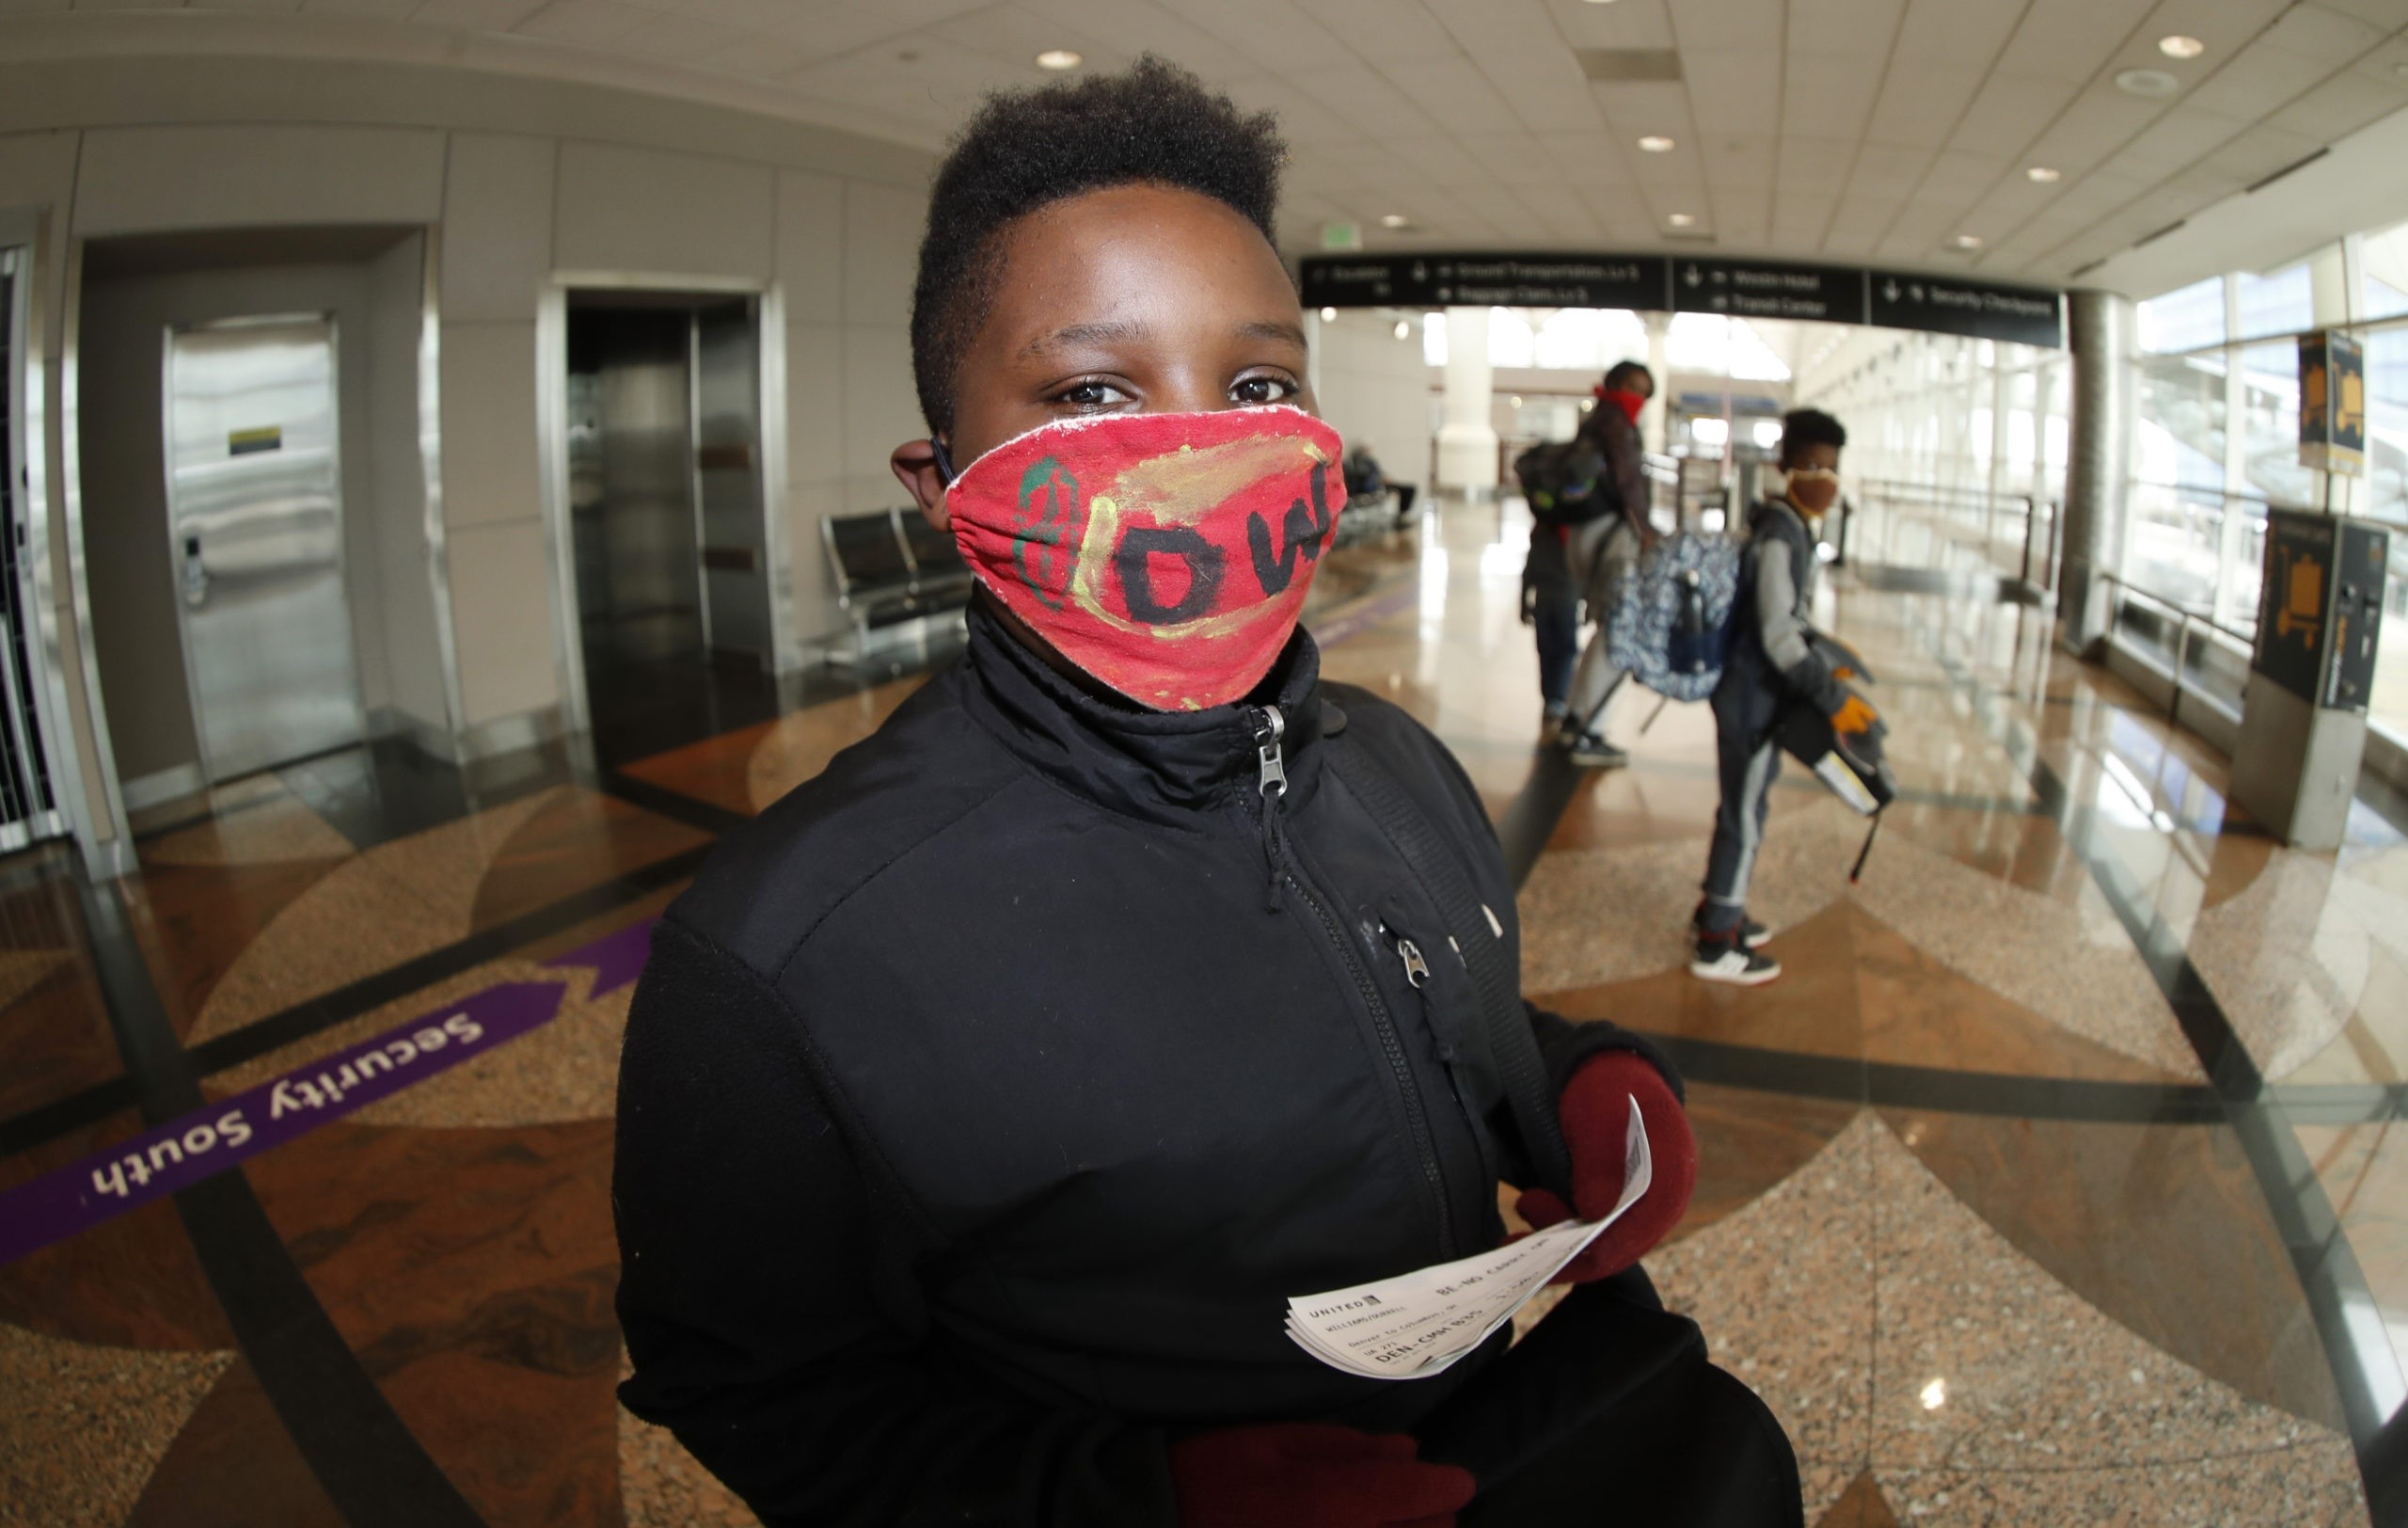face_with_mask: (891, 147, 1363, 718)
